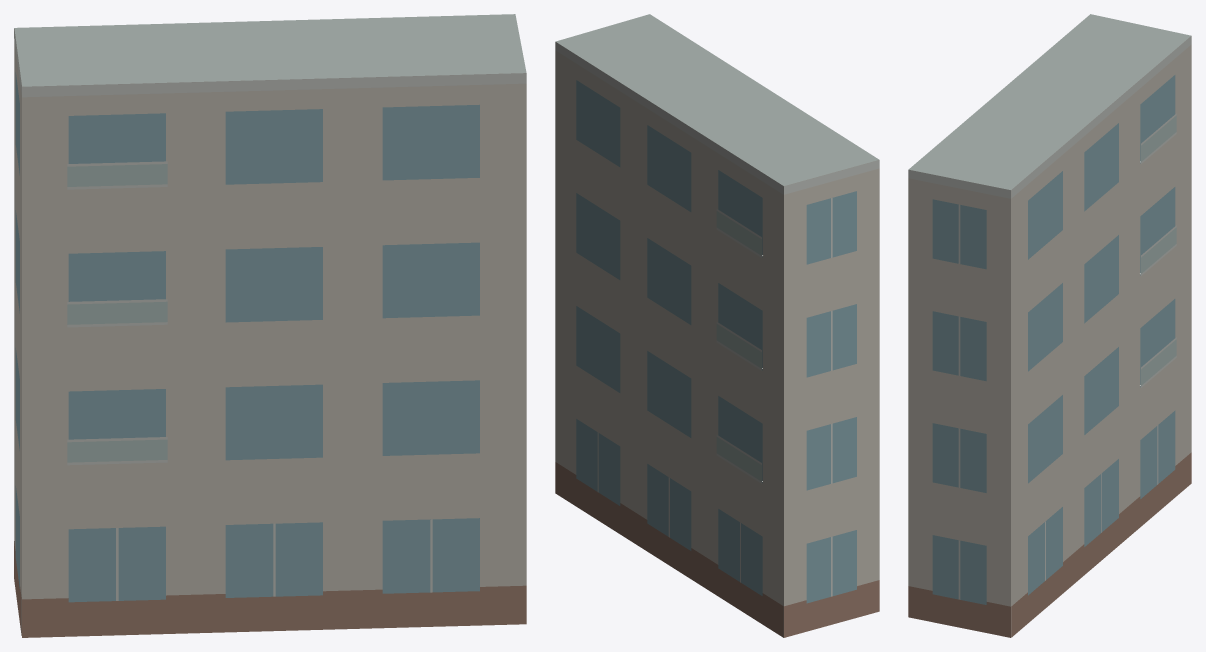
Rendered from survey-upis-32952150.glb.
3 views of the same model, side by side, from view 1: azimuth 30°, elevation 25°; view 2: azimuth 150°, elevation 25°; view 3: azimuth 270°, elevation 25° (orthographic). The views are drawn at different scales.
Parts seen in each view (by area): view 1: survey-upis-32952150.tmp; view 2: survey-upis-32952150.tmp; view 3: survey-upis-32952150.tmp.
Part boxes in pixels (bbox=[...]): survey-upis-32952150.tmp: bbox=[14, 14, 526, 637]; survey-upis-32952150.tmp: bbox=[555, 14, 879, 637]; survey-upis-32952150.tmp: bbox=[908, 14, 1191, 637].
Size of the model in its own units: 10.73 by 12.7 by 7.29.
